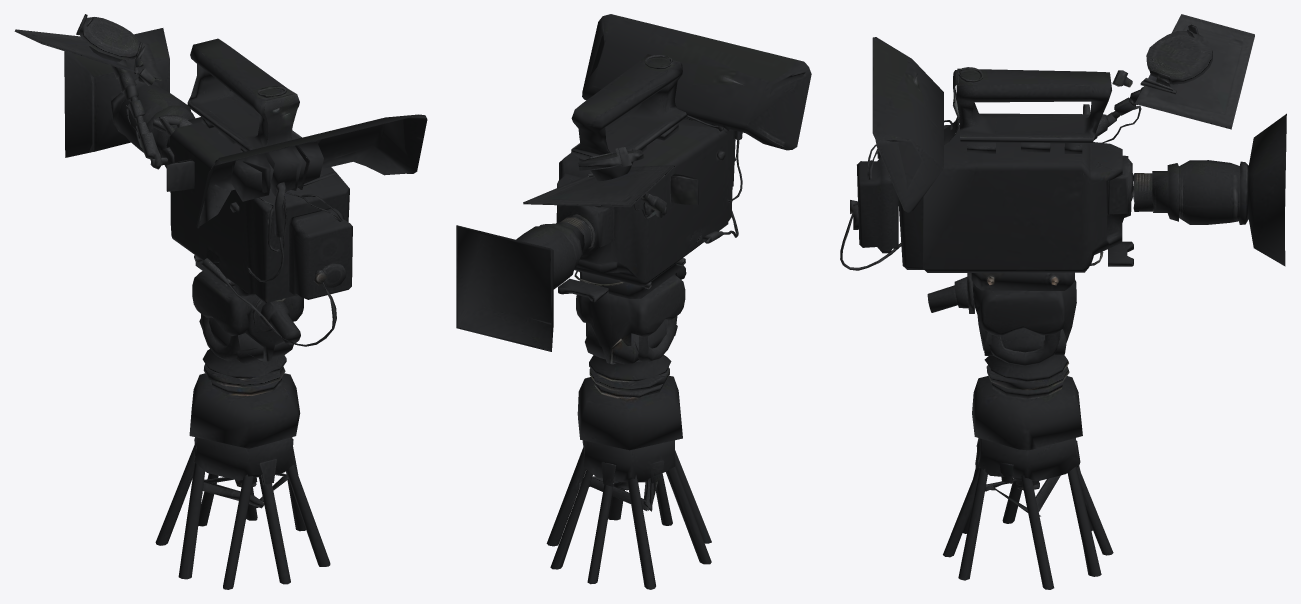
File: office-tv-camera.glb
3 renders of one model, left to right at view 1: azimuth 30°, elevation 25°; view 2: azimuth 150°, elevation 25°; view 3: azimuth 270°, elevation 25°, orthographic. The views are drawn at different scales.
Visible parts, largest first — view 1: tv-camera; view 2: tv-camera; view 3: tv-camera.
Part boxes in pixels (bbox=[...]): tv-camera: bbox=[14, 14, 427, 589]; tv-camera: bbox=[456, 14, 811, 589]; tv-camera: bbox=[840, 14, 1286, 589].
Size of the model in its own units: 0.8456 by 1.7 by 1.4.
1 material, 1 textured.
